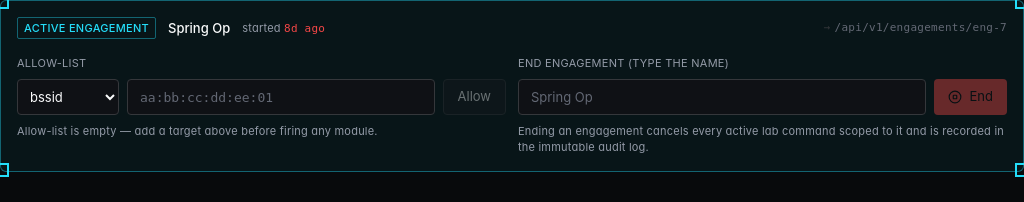
EngagementPanel › surfaces an error inline when the backend rejects
Type "x" into the field named "target value" at (281, 97), box [127, 79, 434, 115]
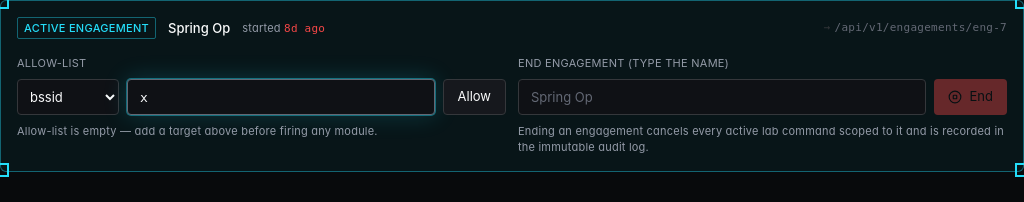
Click the button "Allow" at (474, 97), box [442, 79, 506, 115]
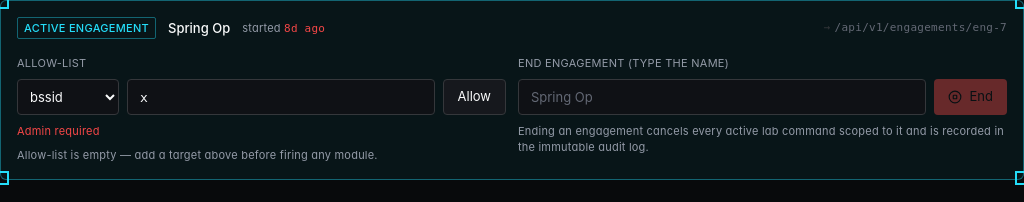
Expected: the text "Admin required" is shown, [17, 124, 100, 138]
